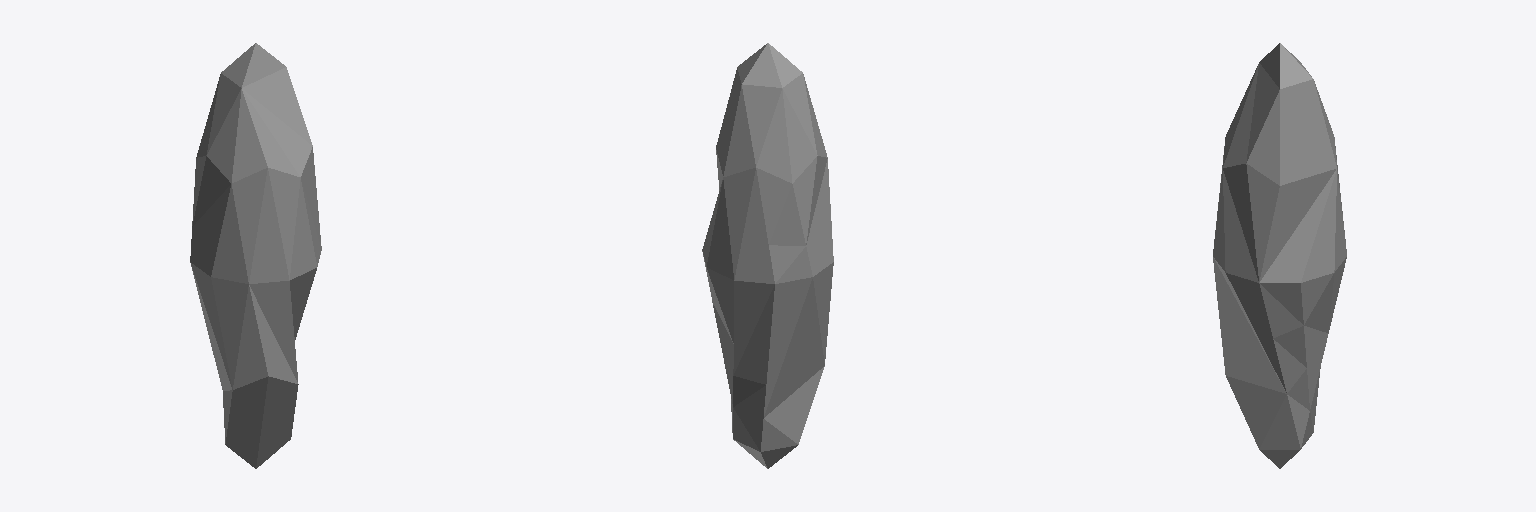
Rendered from BlockUtility.obj.
3 renders of one model, left to right at view 1: azimuth 30°, elevation 25°; view 2: azimuth 150°, elevation 25°; view 3: azimuth 270°, elevation 25°, orthographic.
Visible parts, largest first — view 1: Icosphere; view 2: Icosphere; view 3: Icosphere.
Boxes of the visible parts, box(x1,y1,x2,y2) form: Icosphere: box(190, 43, 321, 468); Icosphere: box(702, 43, 833, 468); Icosphere: box(1213, 43, 1346, 468).
Size of the model in its own units: 0.1902 by 0.7 by 0.2.